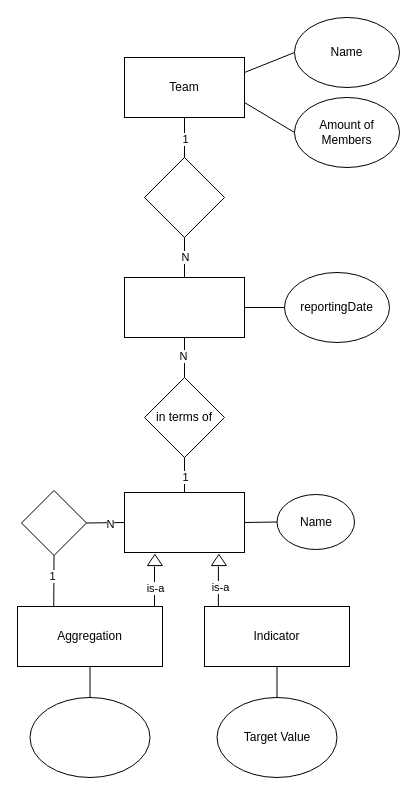
The diagram is 417 pixels wide and 795 high, and some of its shapes have lost their labels. The shapes that lost their labels are listed below. From the top down, each one's centre as x and y in pixels, then its label:
pixel 184 197: of
pixel 184 307: Assessement
pixel 53 523: aggregates
pixel 184 522: Performance
pixel 89 737: Metric
